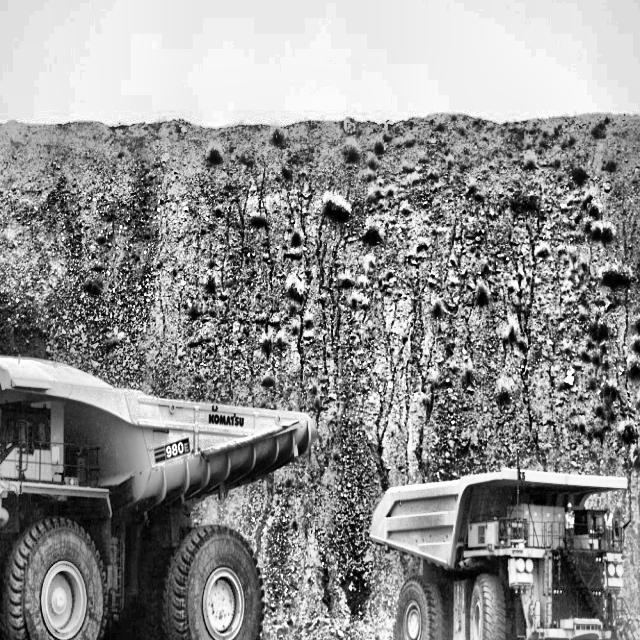dump_truck: (0, 323, 319, 640), (378, 455, 624, 640)
